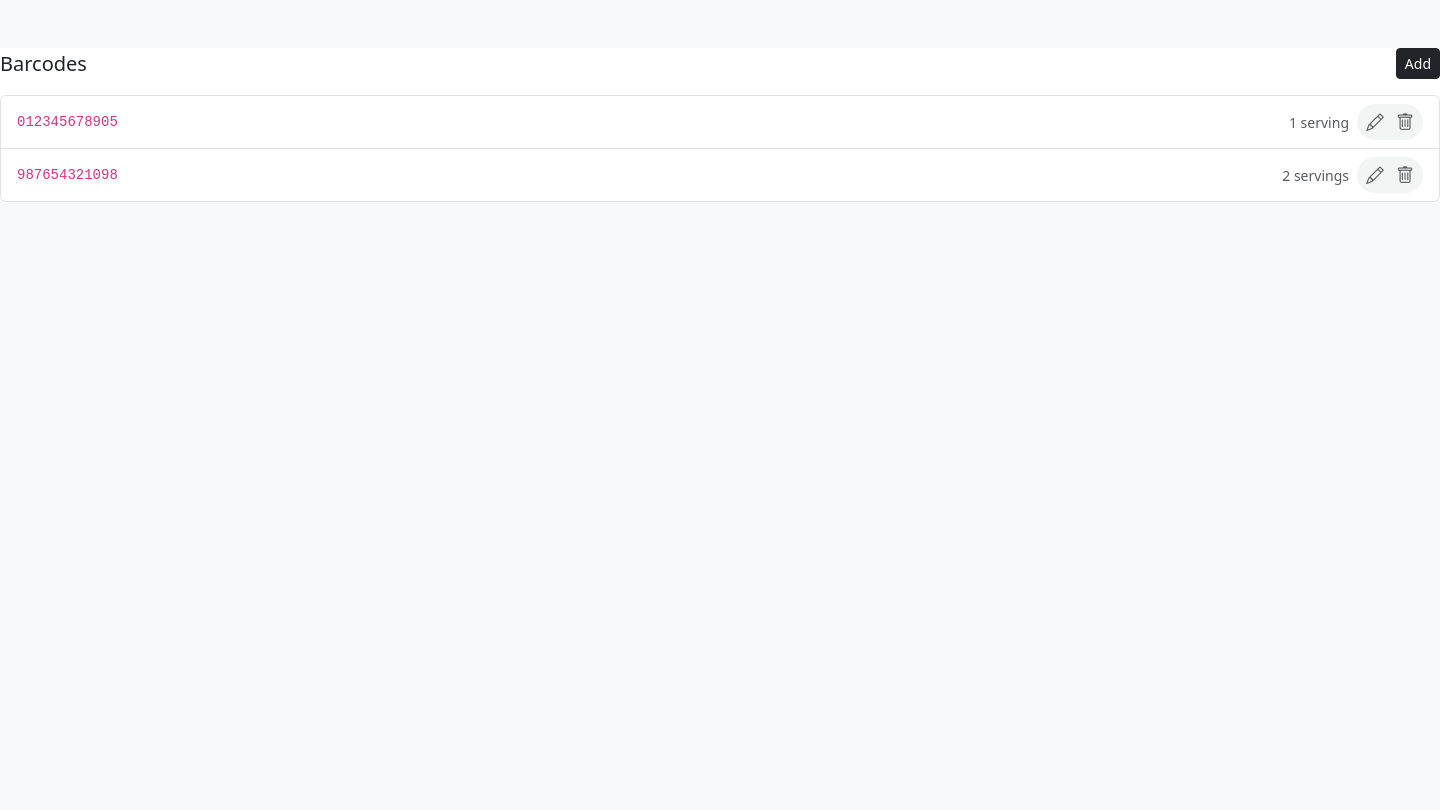
BarcodesSection › opens edit modal pre-populated with barcode data
Click the button named "Edit barcode 987654321098" at (1375, 175), box [1357,157,1393,193]
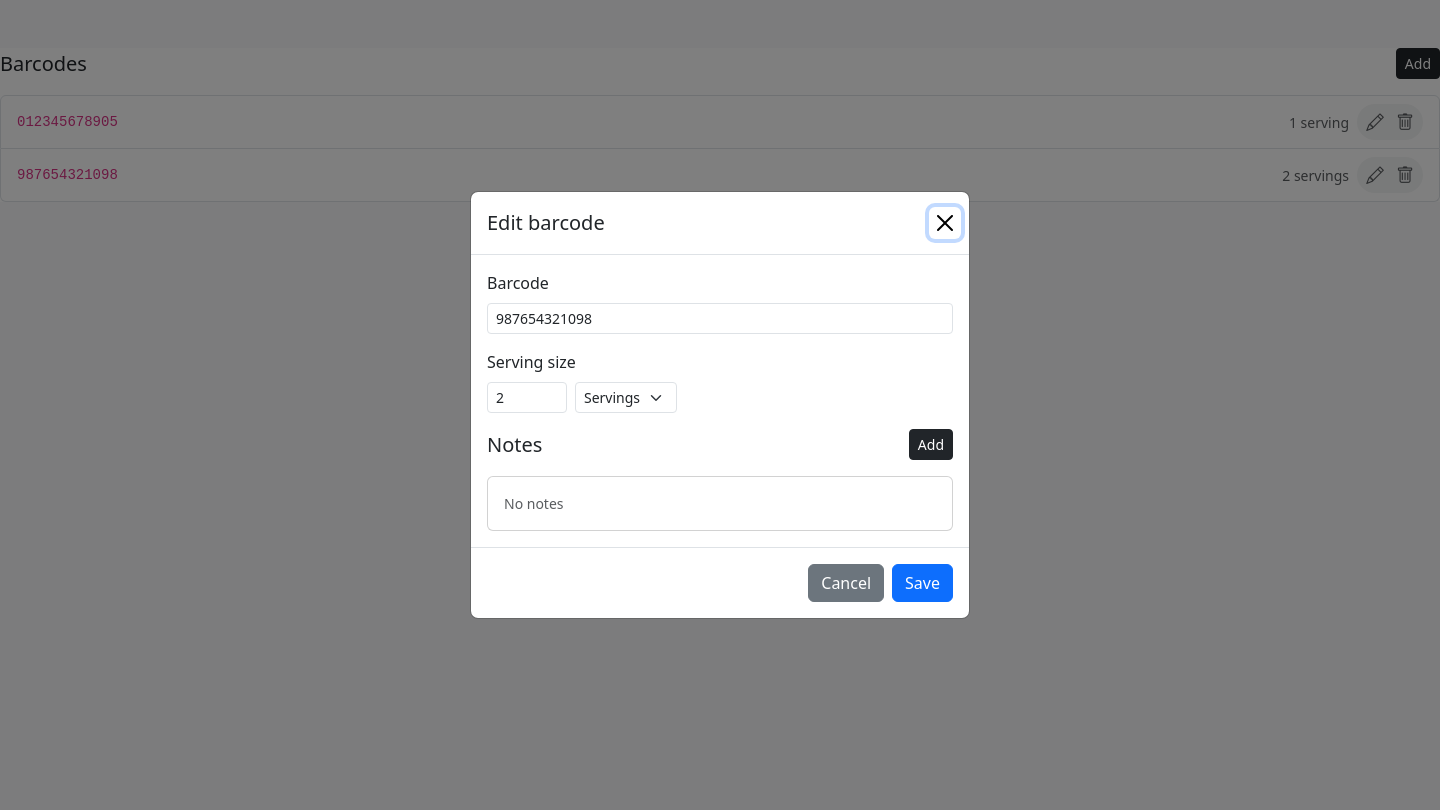
expect the dialog is shown: met, box [470,191,970,619]
expect the heading "Edit barcode" is shown: met, box [487,208,605,238]
expect the field labelled "Barcode" holds "987654321098": met, box [487,303,953,334]
